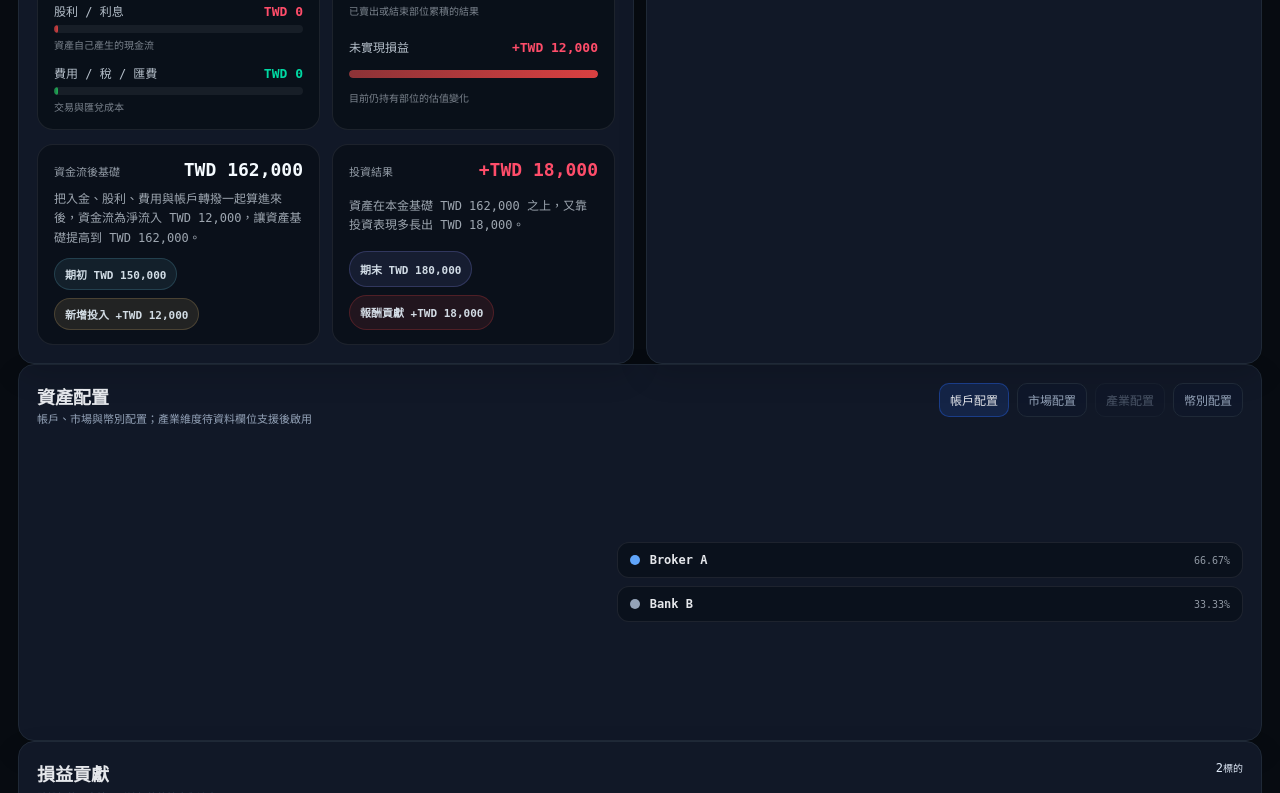
Test: AssetOverviewPanel › enables currency allocation while keeping sector allocation disabled
The width and height of the screenshot is (1280, 793).
(page scrolled)
Expected: the button with test id "asset-allocation-tab-sector" is disabled, top-left (1095, 383), bottom-right (1165, 417)
What coordinates should you click on to do the following:
click the button with test id "asset-allocation-tab-currency"
I would click on:
 (1208, 400)
Its box is top-left (1173, 383), bottom-right (1243, 417).
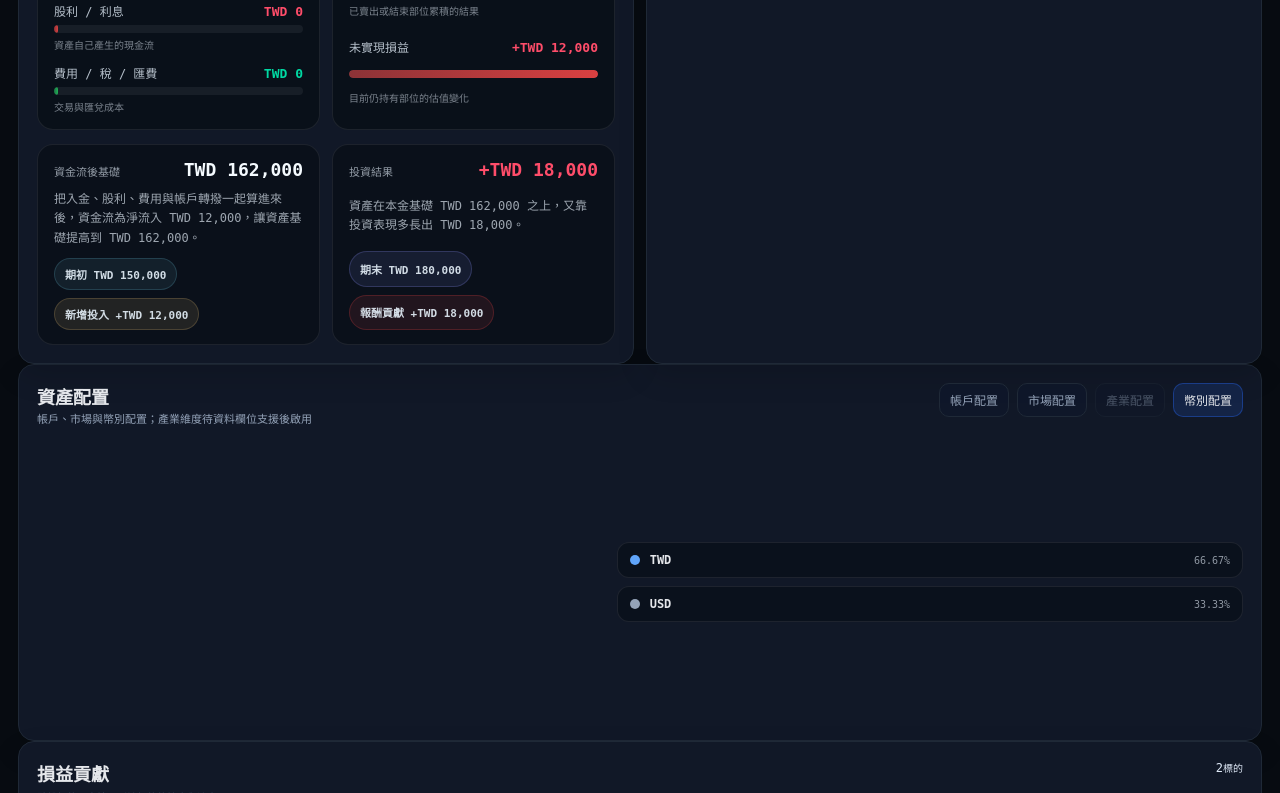
Expected: the text "TWD" is shown, top-left (264, 4), bottom-right (303, 19)
Expected: the text "USD" is shown, top-left (650, 597), bottom-right (671, 611)
